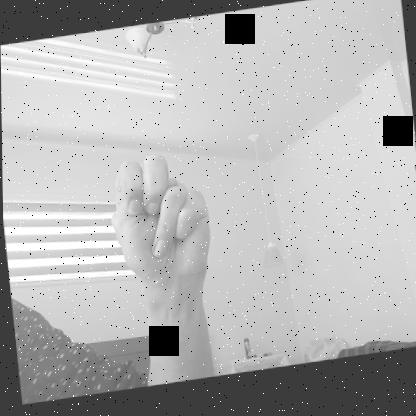N: (105, 146, 219, 304)
